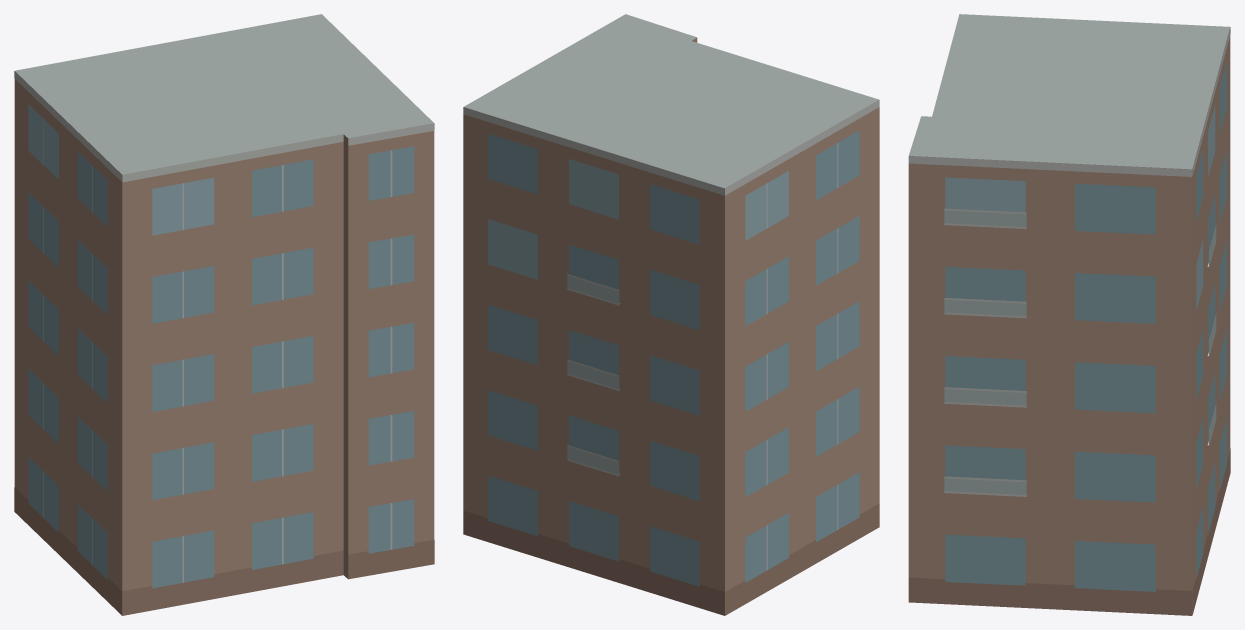
The model's file is survey-upis-32709253.glb.
3 renders of one model, left to right at view 1: azimuth 30°, elevation 25°; view 2: azimuth 150°, elevation 25°; view 3: azimuth 270°, elevation 25°, orthographic. The views are drawn at different scales.
Parts seen in each view (by area): view 1: survey-upis-32709253.tmp; view 2: survey-upis-32709253.tmp; view 3: survey-upis-32709253.tmp.
Boxes of the visible parts, box(x1,y1,x2,y2) form: survey-upis-32709253.tmp: box(14, 14, 434, 615); survey-upis-32709253.tmp: box(463, 14, 879, 615); survey-upis-32709253.tmp: box(908, 14, 1230, 615).
Size of the model in its own units: 10.64 by 14.25 by 9.31.
